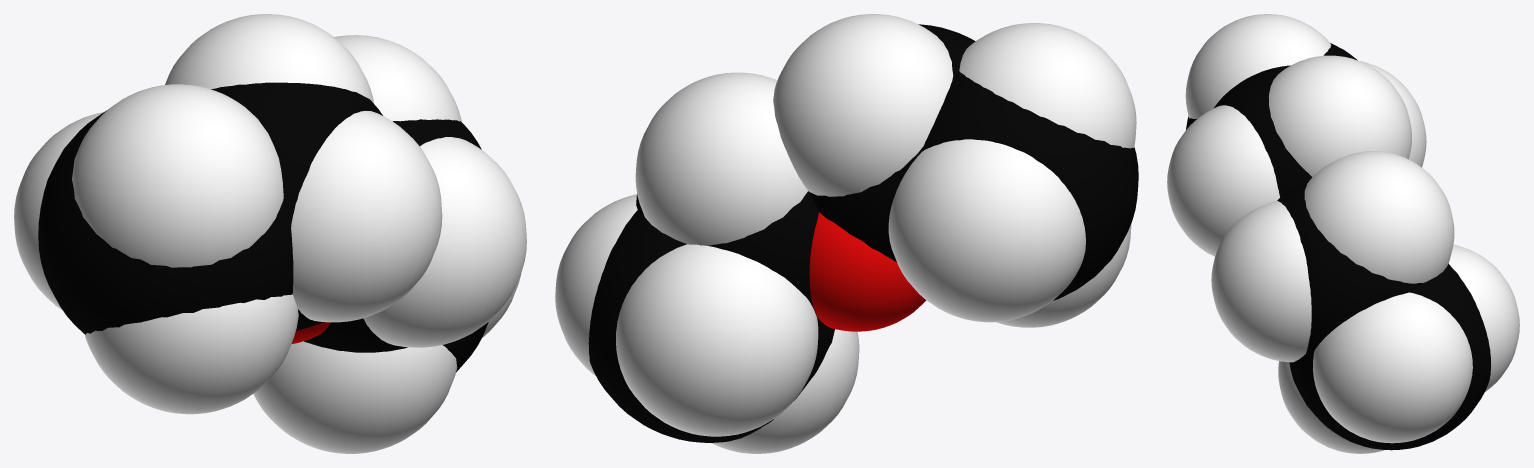
Rendered from eterdietilico.obj.
3 renders of one model, left to right at view 1: azimuth 30°, elevation 25°; view 2: azimuth 150°, elevation 25°; view 3: azimuth 270°, elevation 25°, orthographic. The views are drawn at different scales.
Parts seen in each view (by area): view 1: Hydrogen_ball, Carbon_ball; view 2: Hydrogen_ball, Carbon_ball, Oxygen_ball; view 3: Hydrogen_ball, Carbon_ball.
Boxes of the visible parts, box(x1,y1,x2,y2) form: Hydrogen_ball: box(14, 14, 526, 453); Carbon_ball: box(38, 82, 488, 372); Hydrogen_ball: box(555, 14, 1136, 453); Carbon_ball: box(588, 24, 1138, 442); Oxygen_ball: box(809, 212, 926, 331); Hydrogen_ball: box(1167, 14, 1519, 453); Carbon_ball: box(1186, 43, 1491, 450).
Bounding box in the file's own units: 3.95 × 3.33 × 3.09.
